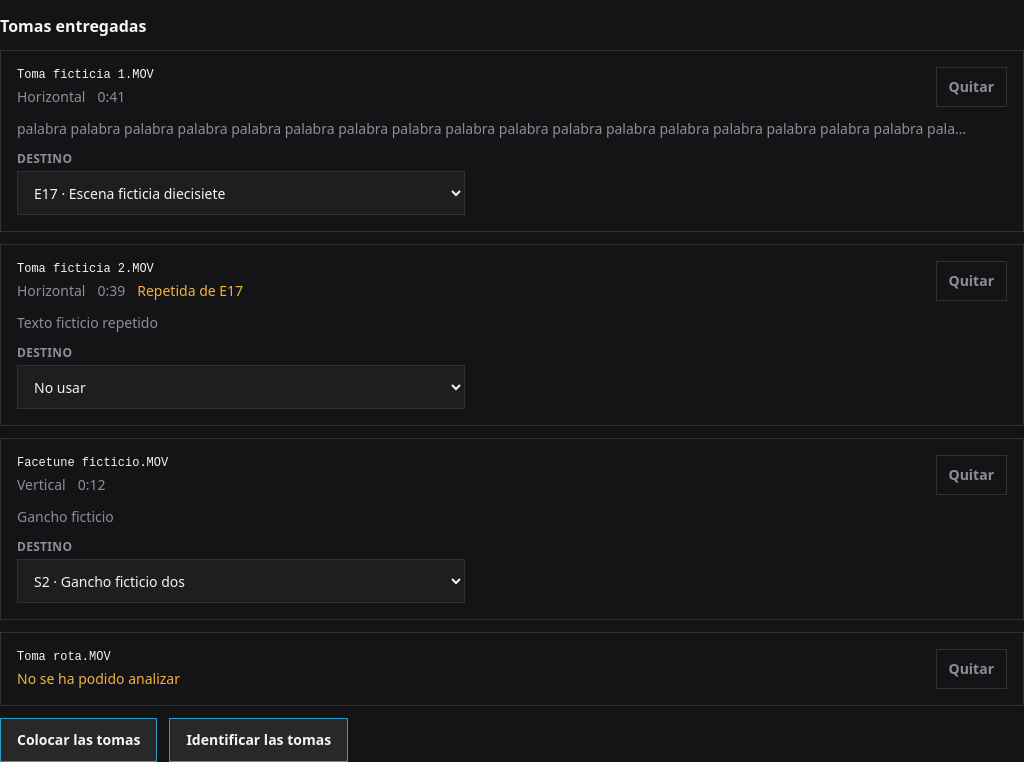
Test case: EntregaTomas › muestra en una alerta el mensaje de un 422 al colocar
The width and height of the screenshot is (1024, 762).
(page scrolled)
Click the button "Colocar las tomas" at (79, 740), box 0,718 -> 157,761
(page scrolled)
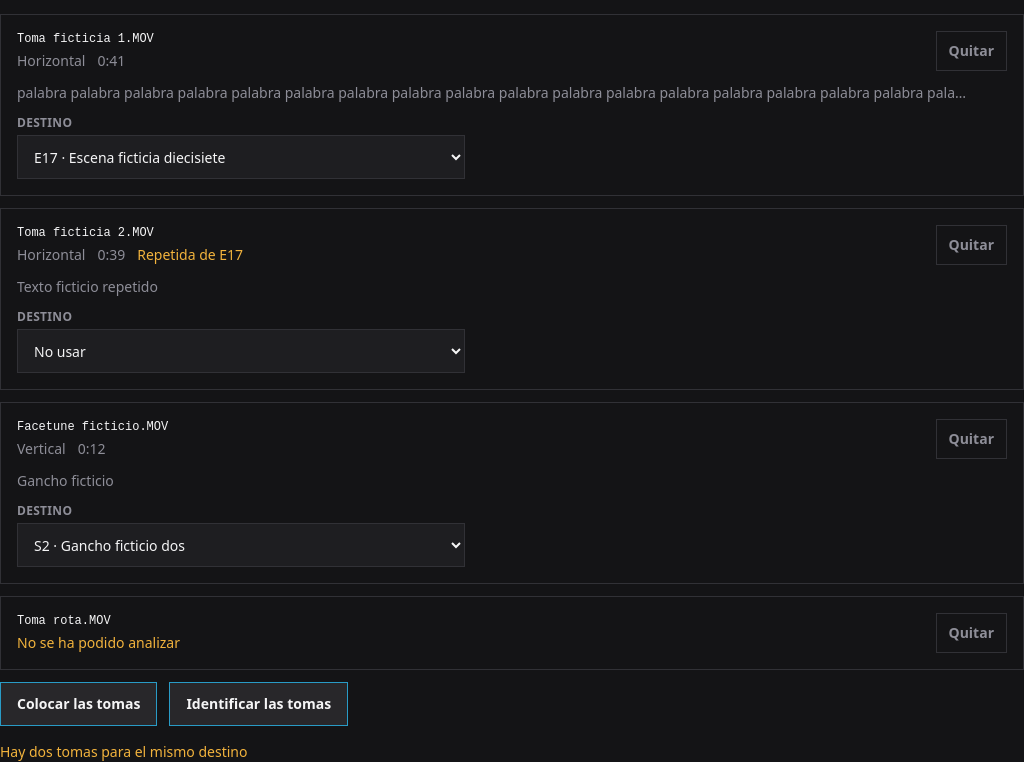
Check: the message reads "Hay dos tomas para el mismo destino", box 0,742 -> 248,761
